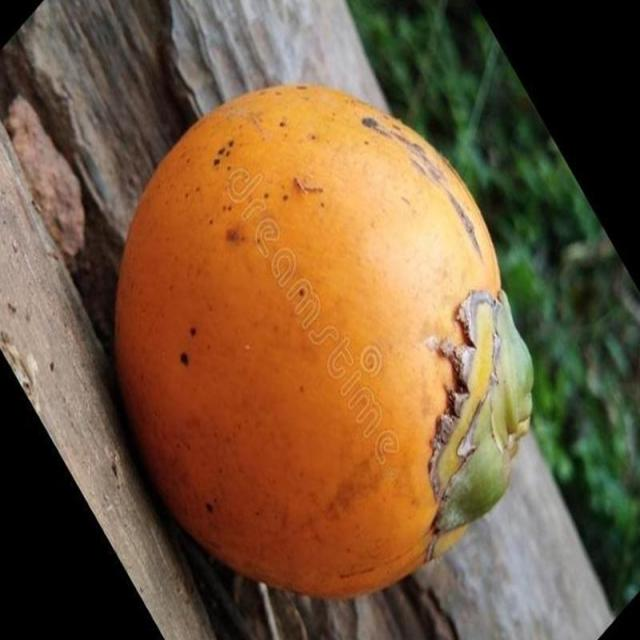good: (115, 85, 533, 596)
